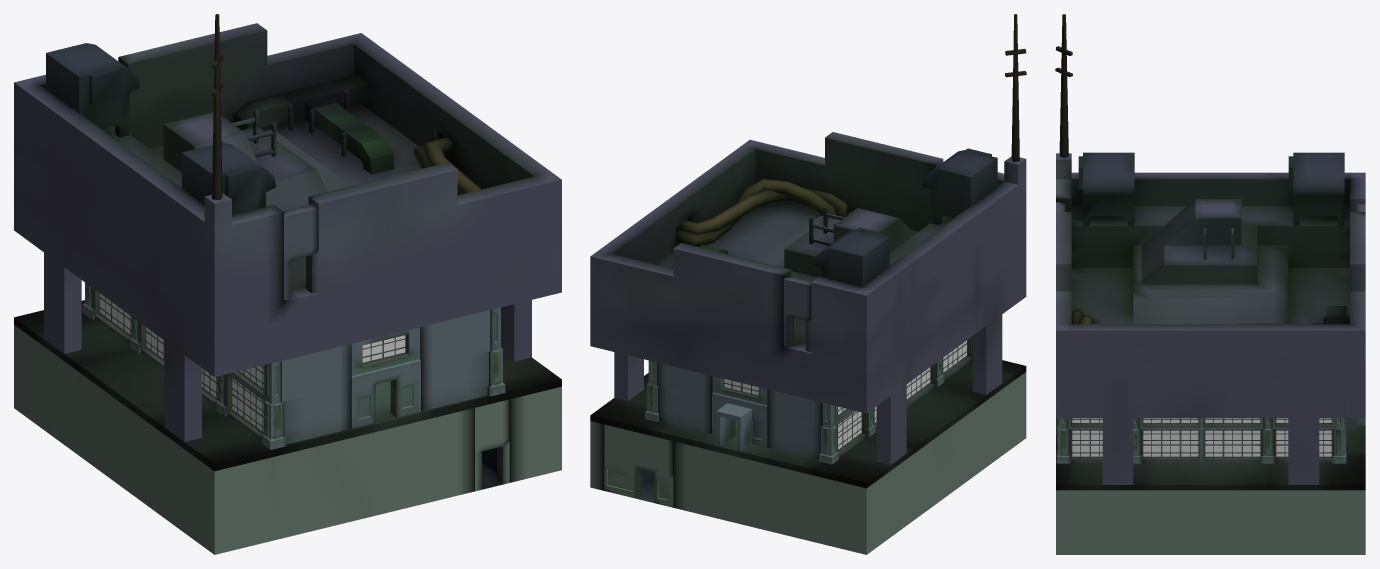
3 views of the same model, side by side, from view 1: azimuth 30°, elevation 25°; view 2: azimuth 150°, elevation 25°; view 3: azimuth 270°, elevation 25° (orthographic). The views are drawn at different scales.
Parts seen in each view (by area): view 1: pyramid roof02, two path steamtunnel01, small warehouse01, metal, Object01, glass small warehouse01; view 2: pyramid roof02, two path steamtunnel01, metal, small warehouse01, Object01, glass small warehouse01; view 3: pyramid roof02, two path steamtunnel01, metal, Object01, small warehouse01, glass small warehouse01.
Boxes of the visible parts, box(x1,y1,x2,y2) form: pyramid roof02: box(14, 23, 561, 441); two path steamtunnel01: box(14, 325, 561, 554); small warehouse01: box(82, 282, 505, 449); metal: box(46, 14, 481, 433); Object01: box(14, 300, 561, 471); glass small warehouse01: box(100, 293, 405, 431); pyramid roof02: box(590, 132, 1026, 464); two path steamtunnel01: box(590, 372, 1026, 554); metal: box(671, 14, 1026, 451); small warehouse01: box(645, 336, 972, 464); Object01: box(590, 360, 1026, 488); glass small warehouse01: box(724, 340, 966, 449); pyramid roof02: box(1056, 153, 1365, 484); two path steamtunnel01: box(1056, 490, 1365, 554); metal: box(1055, 14, 1349, 457); Object01: box(1056, 418, 1365, 490); small warehouse01: box(1056, 418, 1365, 463); glass small warehouse01: box(1072, 418, 1331, 456).
Bounding box in the file's own units: 20.11 × 29.92 × 20.04.
